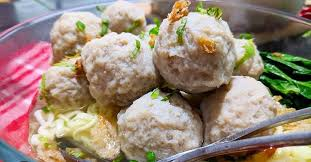bakso: (32, 15, 291, 159)
